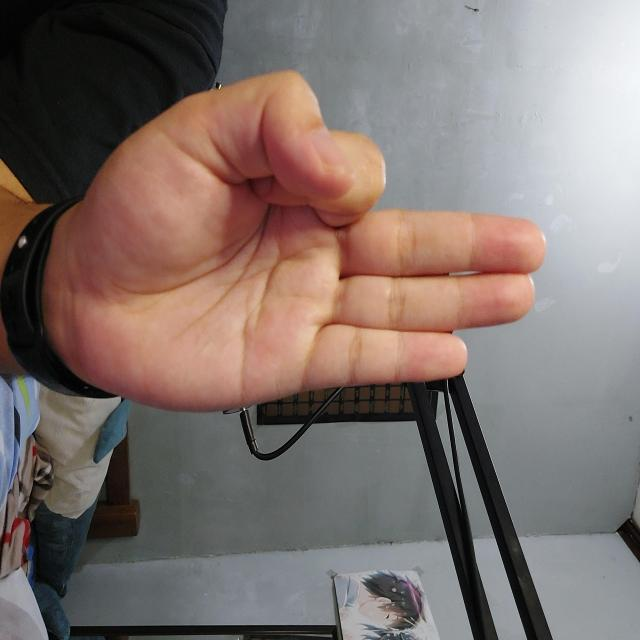F: (69, 91, 412, 564)
